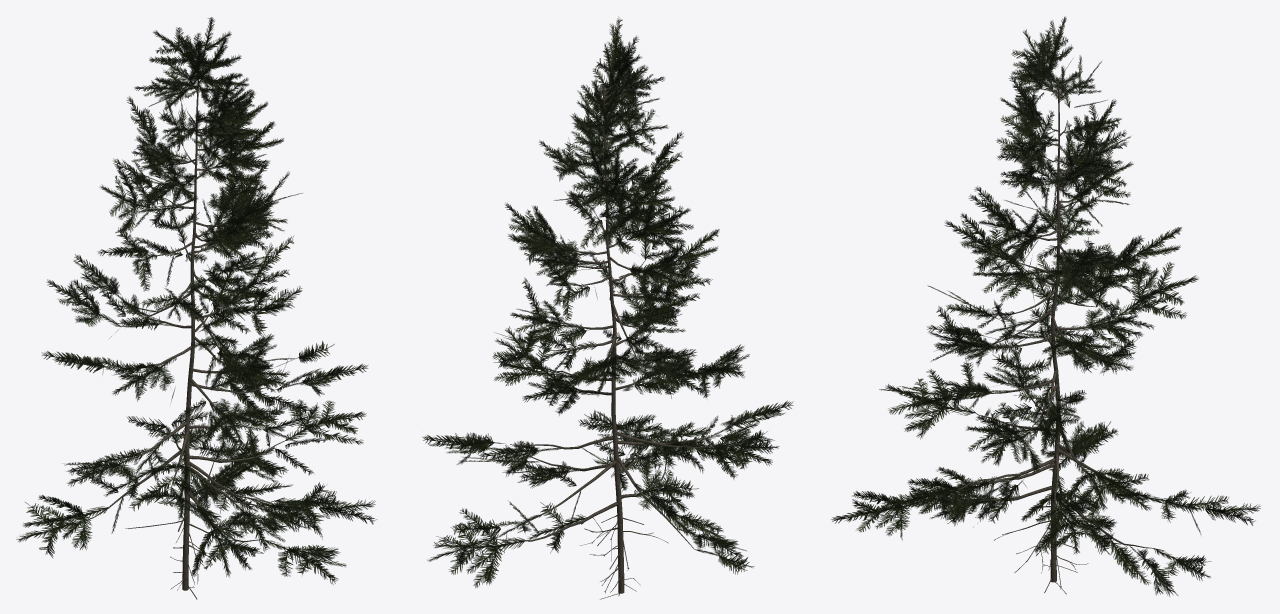
The model's file is sapling_b.glb.
3 views of the same model, side by side, from view 1: azimuth 30°, elevation 25°; view 2: azimuth 150°, elevation 25°; view 3: azimuth 270°, elevation 25° (orthographic). The views are drawn at different scales.
Visible parts, largest first — view 1: fir_sapling_medium_b_LOD1; view 2: fir_sapling_medium_b_LOD1; view 3: fir_sapling_medium_b_LOD1.
Part boxes in pixels (<box>): fir_sapling_medium_b_LOD1: <box>16,17,377,599</box>; fir_sapling_medium_b_LOD1: <box>422,16,793,599</box>; fir_sapling_medium_b_LOD1: <box>831,16,1260,596</box>.
Size of the model in its own units: 4.95 by 7.93 by 5.44.
3 materials, 3 textured.
